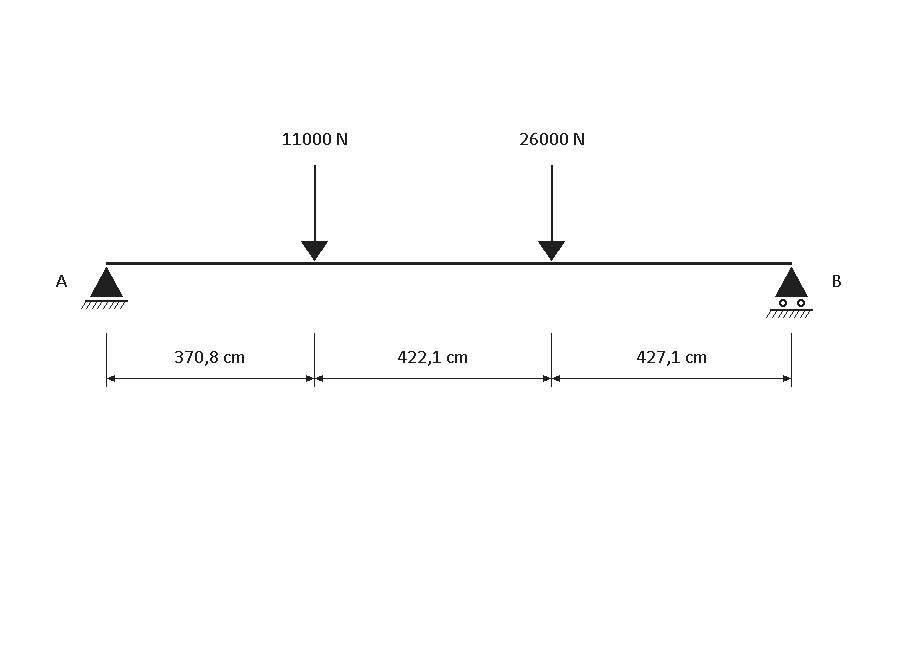pin_support: (81, 267, 128, 309)
point_load: (301, 165, 328, 261), (538, 165, 565, 261)
roller_support: (766, 267, 813, 318)
